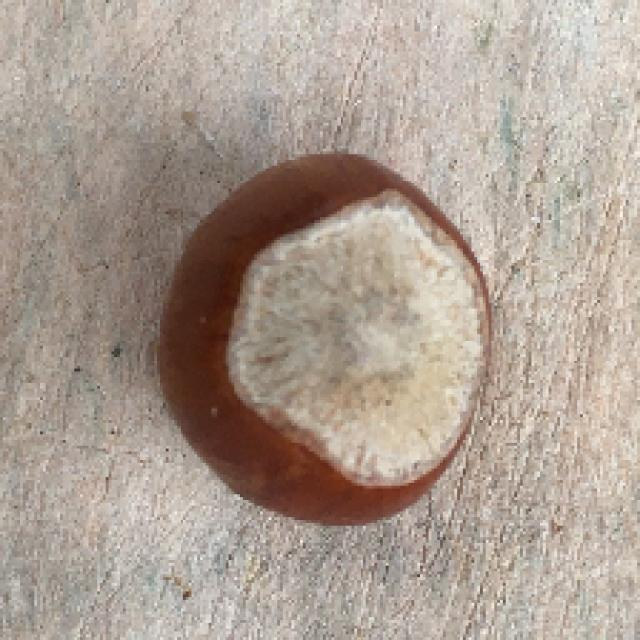qualityHazelnut: (156, 152, 494, 526)
